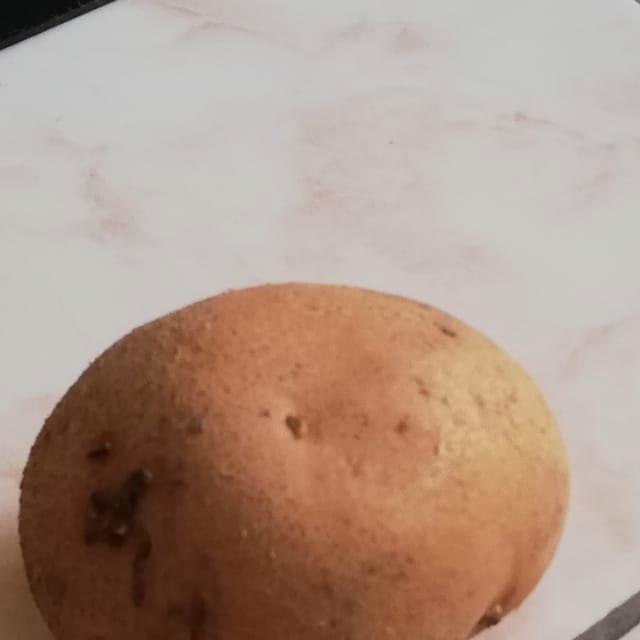potato: (8, 255, 588, 640)
